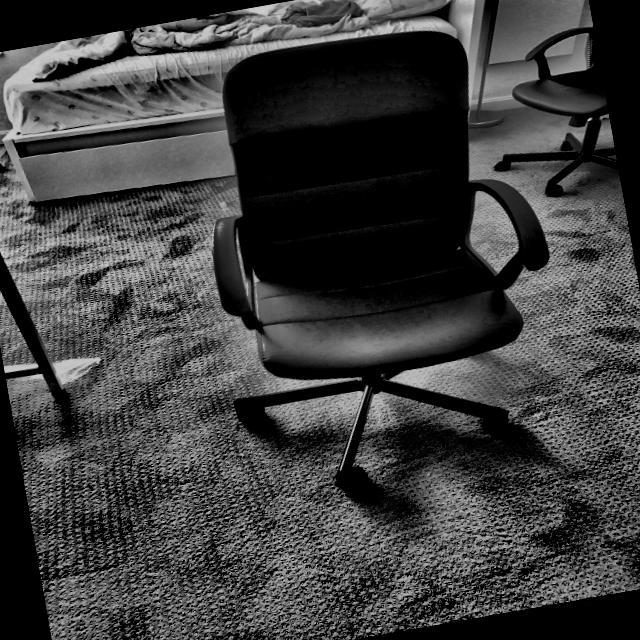chair: (174, 9, 588, 512)
